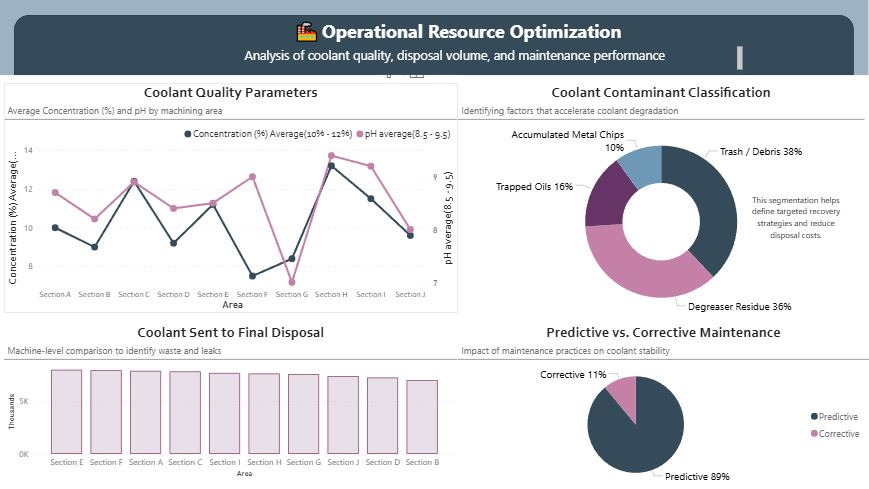

Layout of this report page (visuals, bound fields, positions):
{"tool":"powerbi","page":{"name":"Page 1","canvas":[1280,720],"ordinal":0},"visuals":[{"type":"shape","box":[0,0,1278.7,112.3],"z":0},{"type":"lineChart","title":"Coolant Quality Parameters","fields":{"Category":["pH (2).Area"],"Y":["Sum(pH (2).Concentration (%) Average(10% - 12%))"],"Y2":["Sum(pH (2).pH average(8.5 - 9.5))"]},"box":[8,123.3,666.8,337.8],"z":1000},{"type":"columnChart","title":"Coolant Sent to Final Disposal","fields":{"Category":["Sheet1.Area"],"Y":["Sum(Sheet1.Disposición de soluble por maquina (L))"]},"box":[8,476.2,666.8,230.5],"z":2000},{"type":"donutChart","title":"Coolant Contaminant Classification","fields":{"Y":["Sum(Sheet2.Column2)"],"Category":["Sheet2.Types of Contamination"]},"box":[674.8,123.3,597.6,352.9],"z":3000},{"type":"pieChart","title":"Predictive vs. Corrective Maintenance","fields":{"Category":["Sheet3.Maintenance: Predictive vs. Corrective"],"Y":["Sum(Sheet3.Column2)"]},"box":[675.7,476.2,604.7,243.8],"z":4000},{"type":"shape","box":[22.1,23.5,1235.3,88.2],"z":5000},{"type":"textbox","box":[362.9,23,623.5,47.5],"z":6000},{"type":"textbox","box":[252,64.8,846.7,47.5],"z":7000},{"type":"textbox","box":[1098.6,280.2,147.2,79.8],"z":8500}]}

Visuals, with their boxes in screenshot pixels (x1, y1, x2, y2), scaled from the page's 1280x720 canvas onto the 869x489 screenshot:
shape: pyautogui.locateOnScreen(0, 0, 868, 76)
"Coolant Quality Parameters" lineChart: pyautogui.locateOnScreen(5, 84, 458, 313)
"Coolant Sent to Final Disposal" columnChart: pyautogui.locateOnScreen(5, 323, 458, 480)
"Coolant Contaminant Classification" donutChart: pyautogui.locateOnScreen(458, 84, 864, 323)
"Predictive vs. Corrective Maintenance" pieChart: pyautogui.locateOnScreen(459, 323, 868, 488)
shape: pyautogui.locateOnScreen(15, 16, 854, 76)
textbox: pyautogui.locateOnScreen(246, 16, 670, 48)
textbox: pyautogui.locateOnScreen(171, 44, 746, 76)
textbox: pyautogui.locateOnScreen(746, 190, 846, 244)
